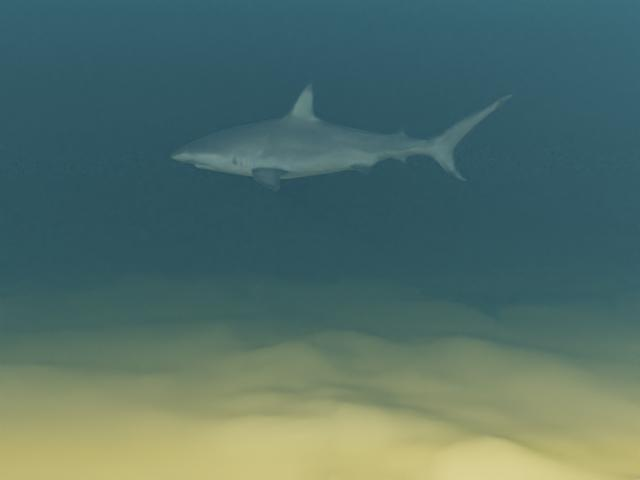Carribean Shark.001: (170, 82, 513, 191)
